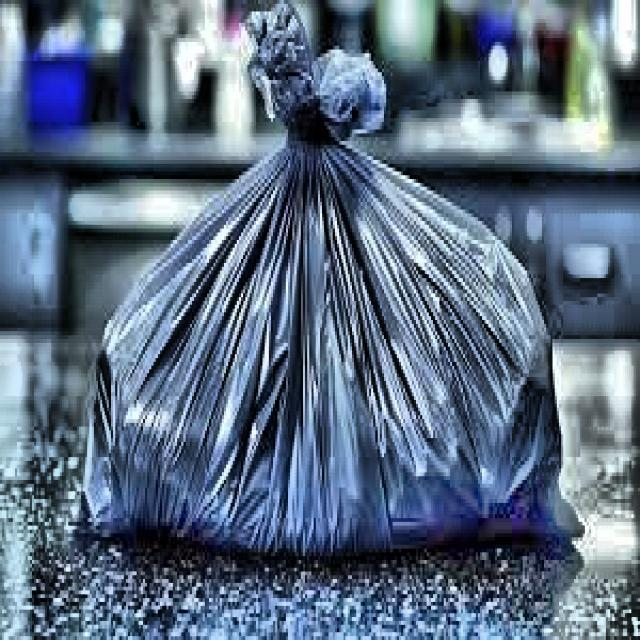Trashbag: (60, 3, 601, 577)
